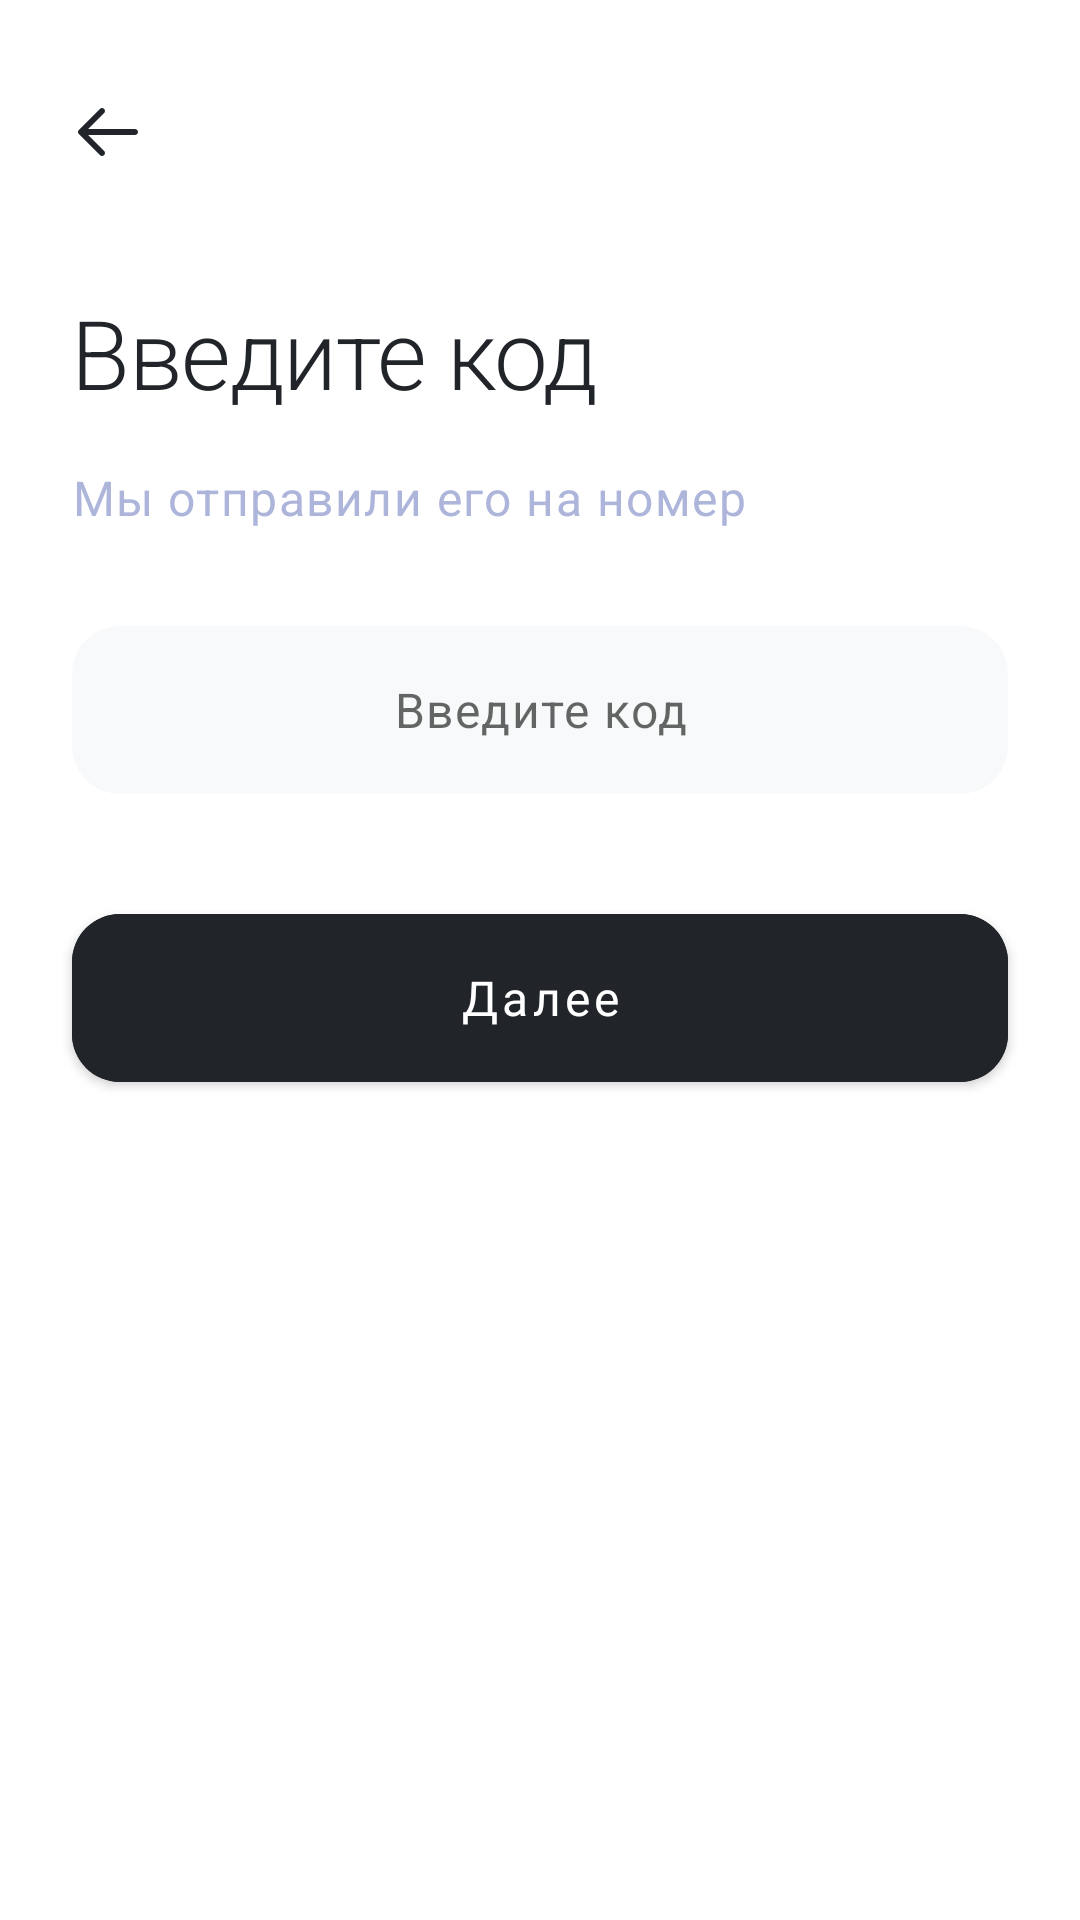

Screen size 1080px x 1920px. Icon name, then its center in pixels as [x,y]:
back: [108,132]
